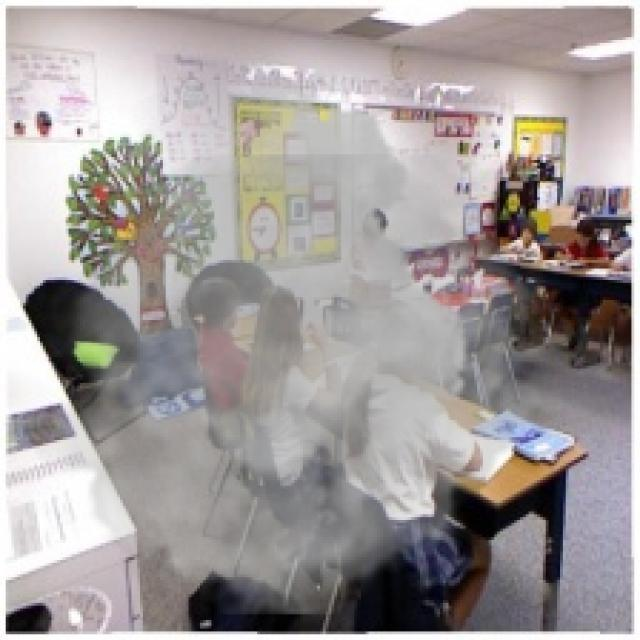Smoke: (31, 62, 566, 614)
